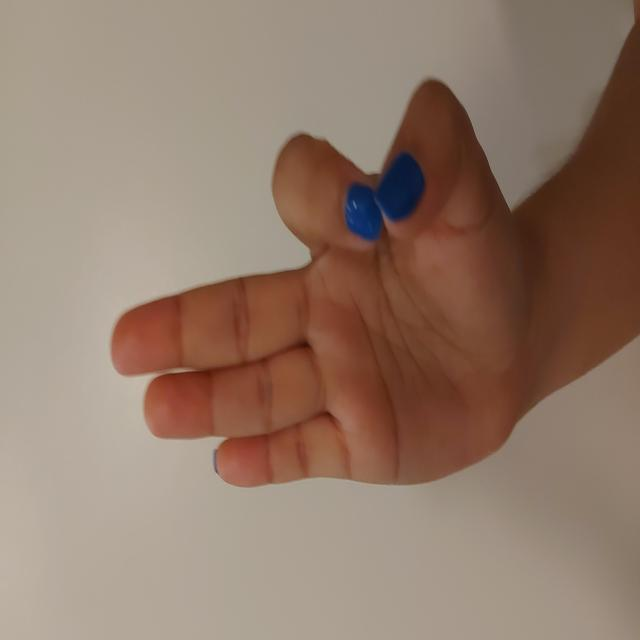F: (151, 110, 564, 528)
